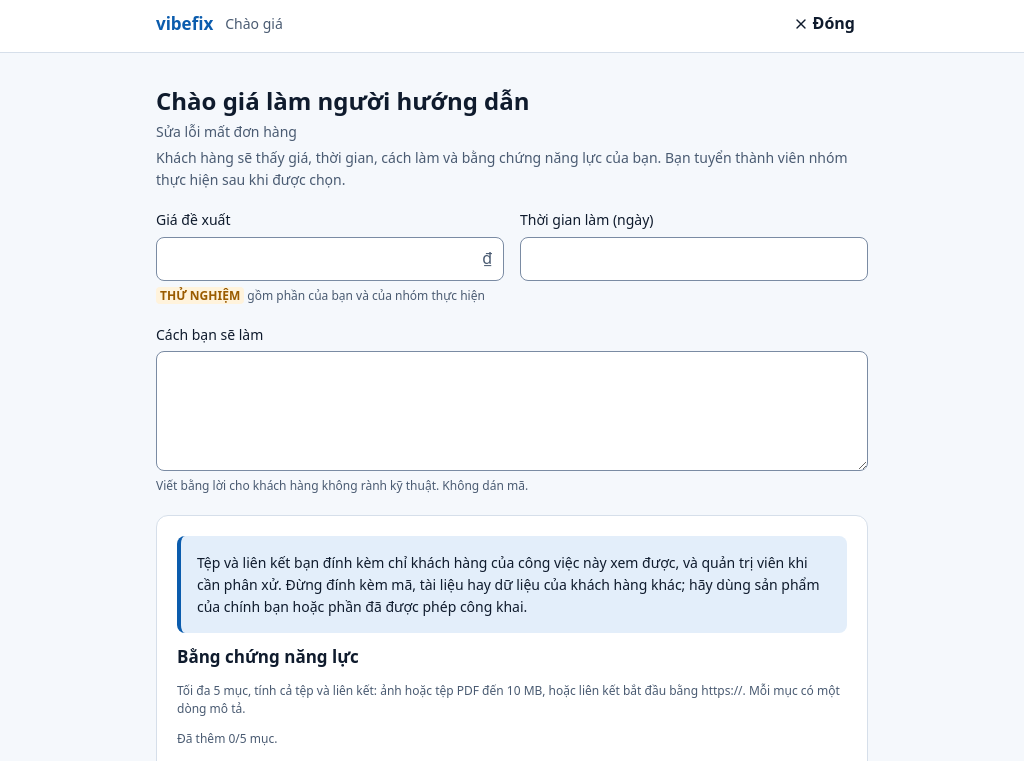
Test case: FND-1, a bid with a quote and proof (UX-DR99, FR-13) › says a profile without a display name, with the way to ACC-1 (Story 19.7) inline
Type "800000" into the field labelled "Giá đề xuất".
click(330, 259); type("800000")  # box top-left (156, 237), bottom-right (504, 281)
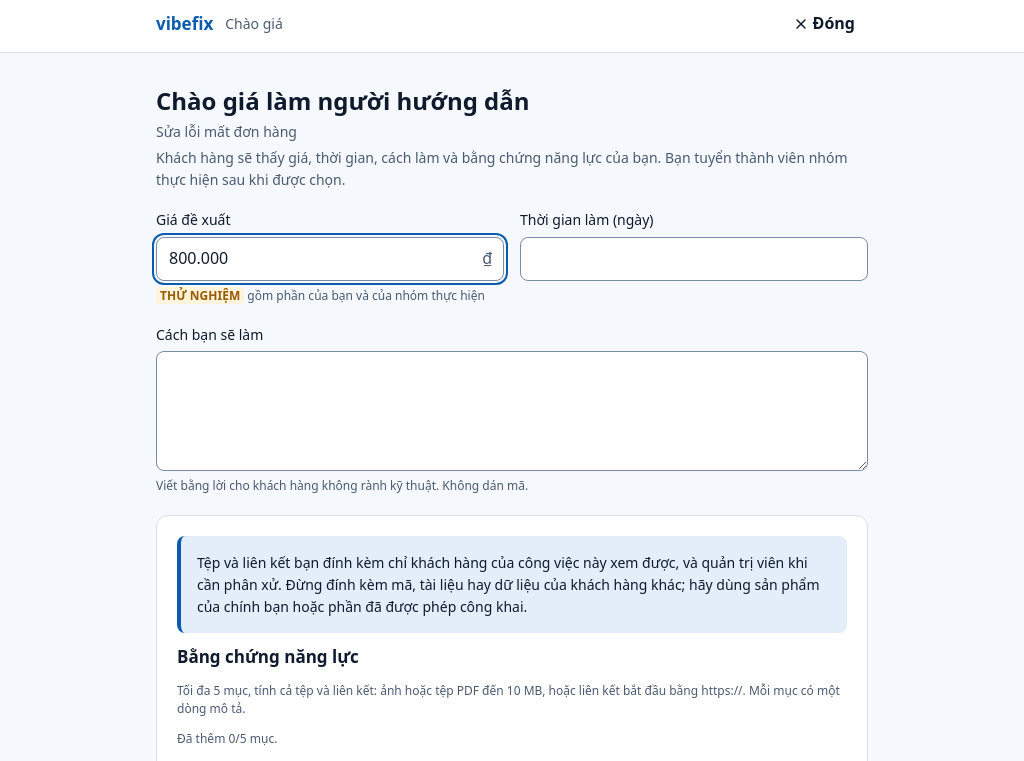
Type "5" into the number field labelled "Thời gian làm (ngày)".
click(694, 259); type("5")  # box top-left (520, 237), bottom-right (868, 281)
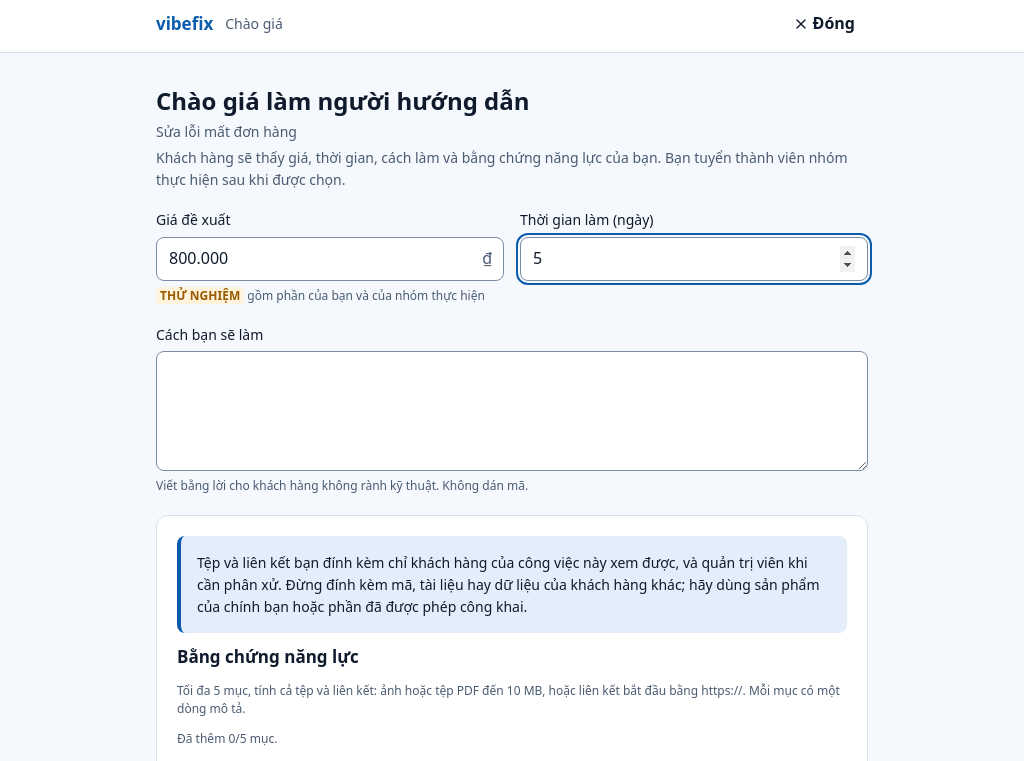
Type "Sửa lỗi." into the text box labelled "Cách bạn sẽ làm".
click(512, 411); type("Sửa lỗi.")  # box top-left (156, 351), bottom-right (868, 471)
(page scrolled)
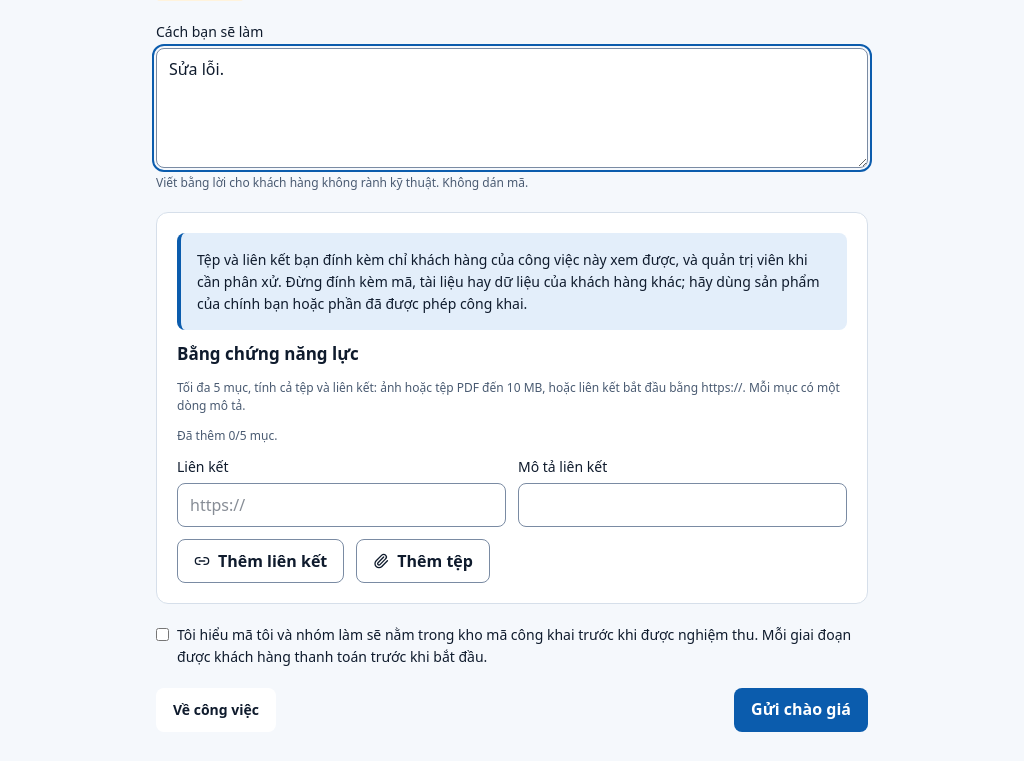
Click the checkbox labelled "Tôi hiểu mã tôi và nhóm làm".
click(162, 635)  # box top-left (156, 628), bottom-right (169, 641)
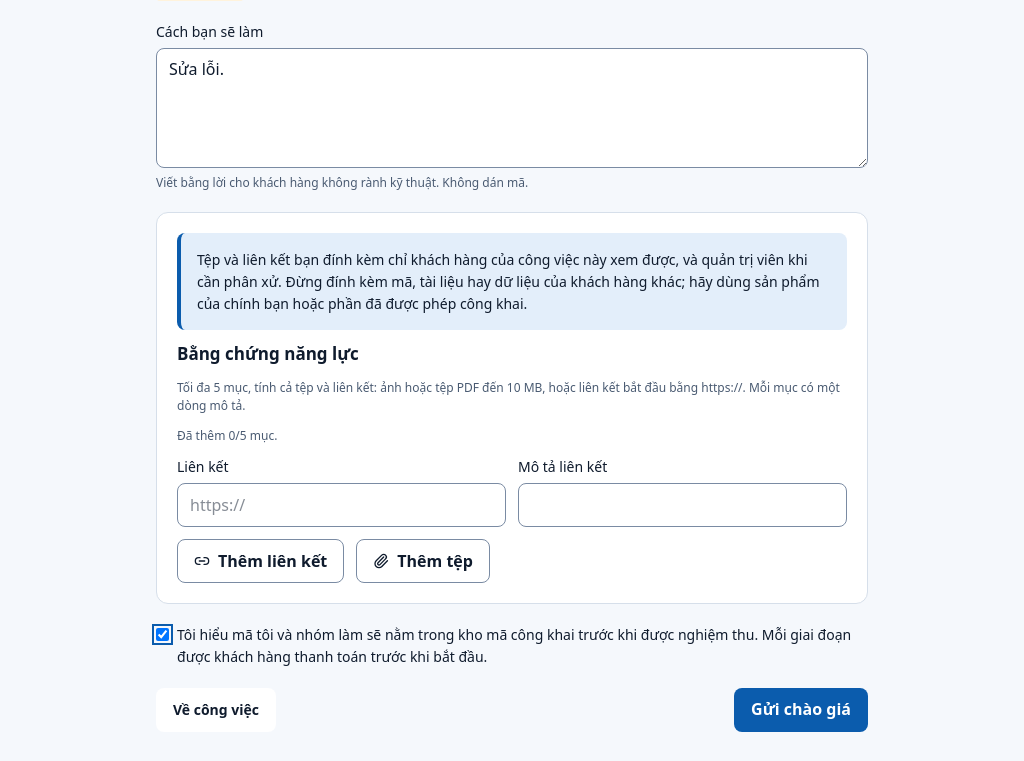
Click the button "Gửi chào giá".
click(801, 710)  # box top-left (734, 688), bottom-right (868, 732)
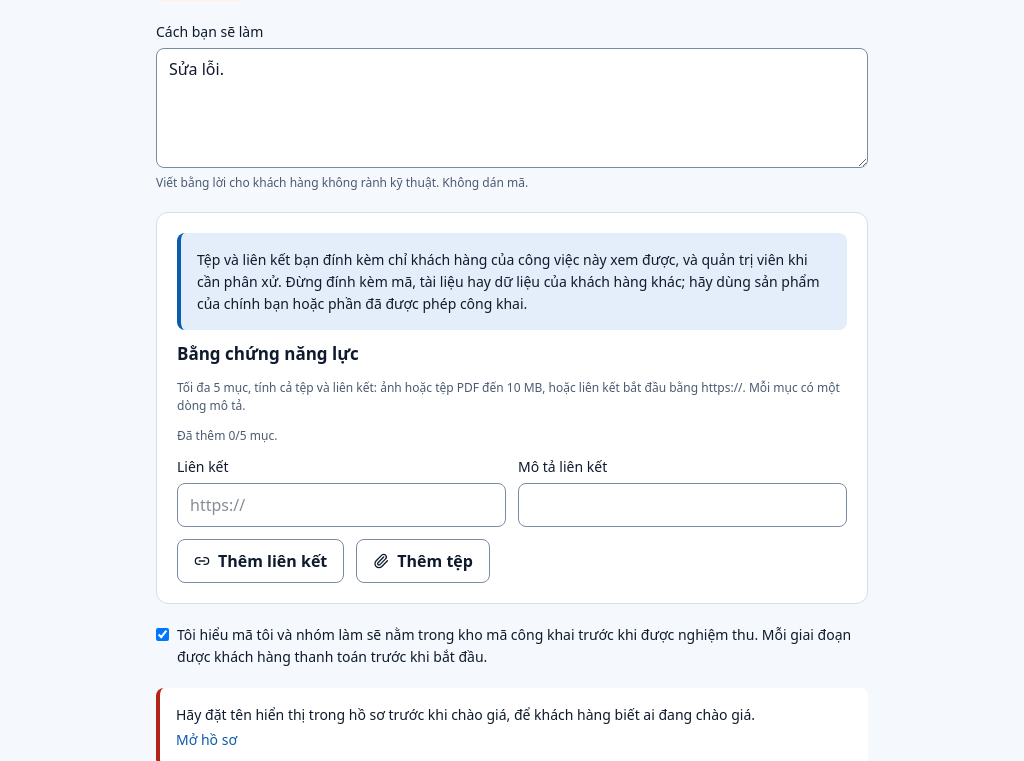
Check: the message shows "Hãy đặt tên hiển thị trong hồ sơ trước khi chào giá, để khách hàng biết ai đang chào giá.", box top-left (176, 705), bottom-right (755, 724)
